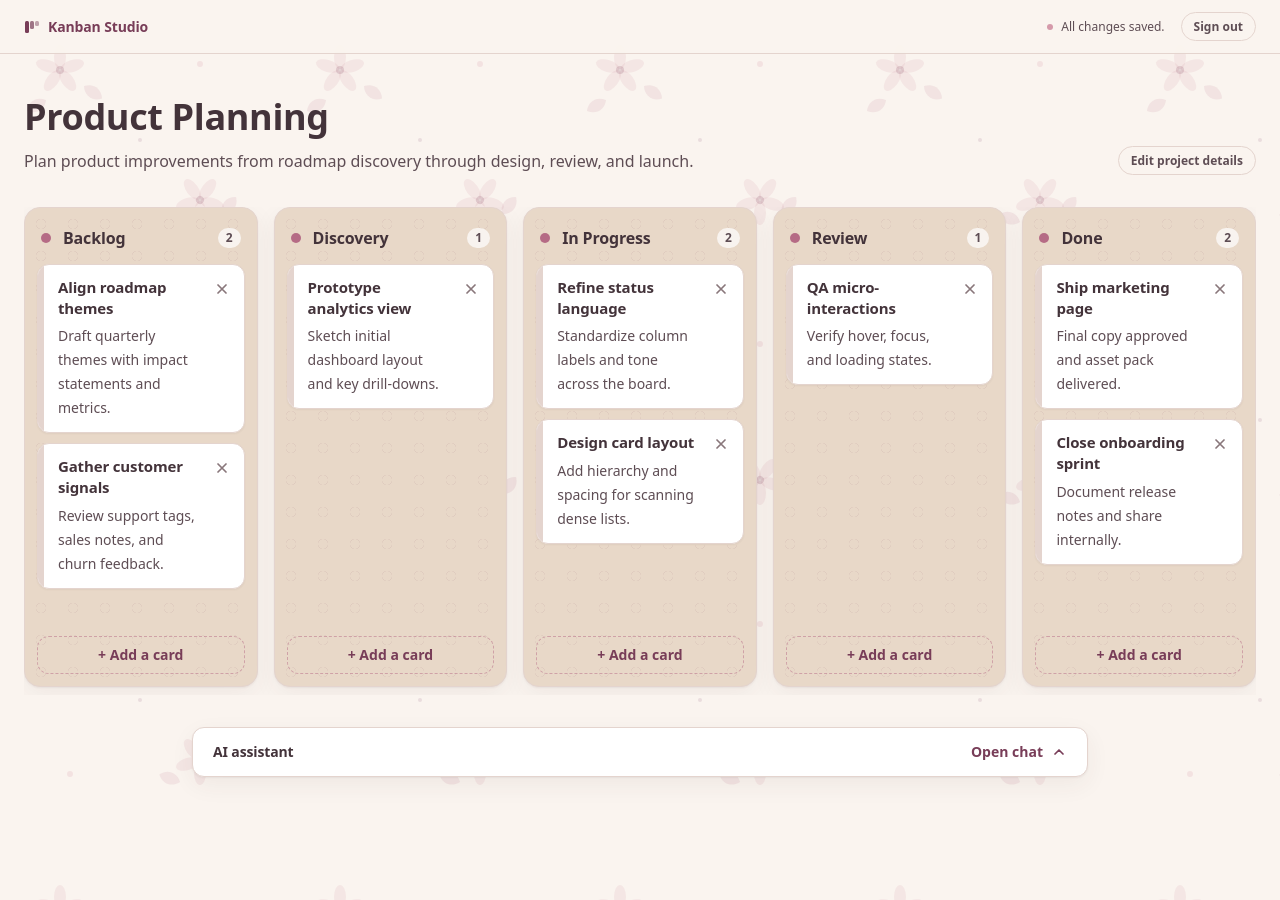
KanbanBoard › never saves an empty column title and restores it on blur
Clear the 1st field named "Column title" at [134, 238], box 59,224 -> 210,252
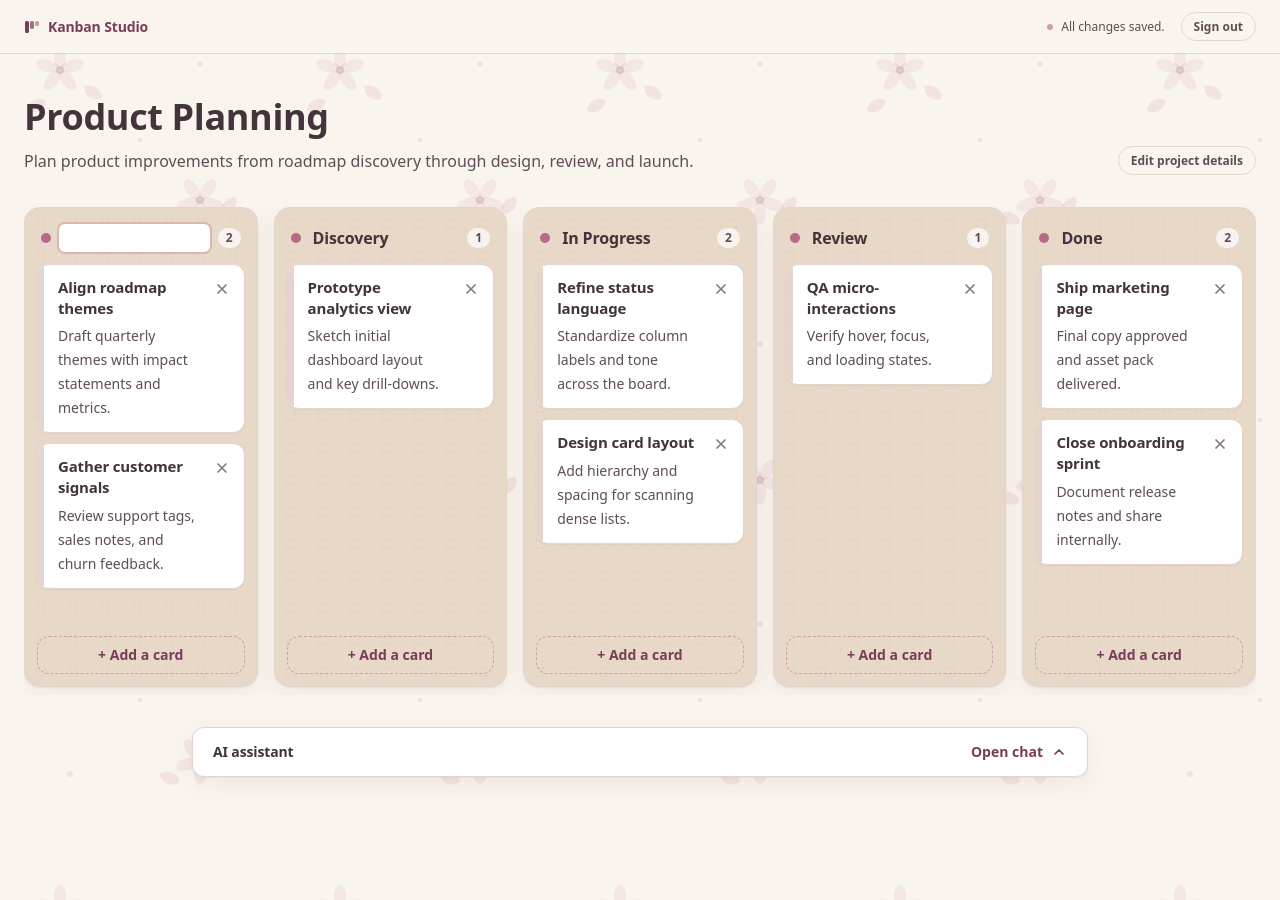
Press Tab
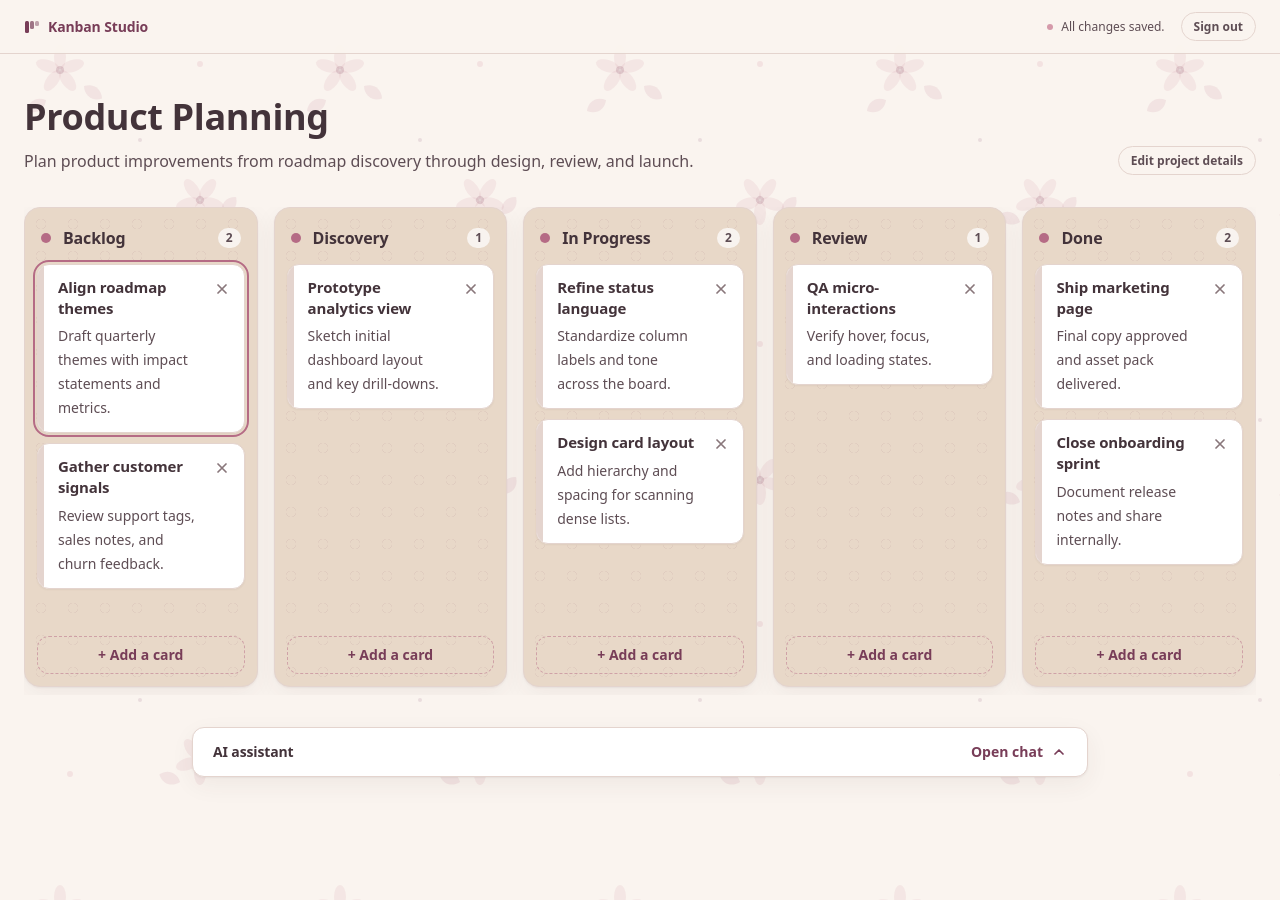
Check: the 1st field named "Column title" holds "Backlog", box 59,224 -> 210,252
